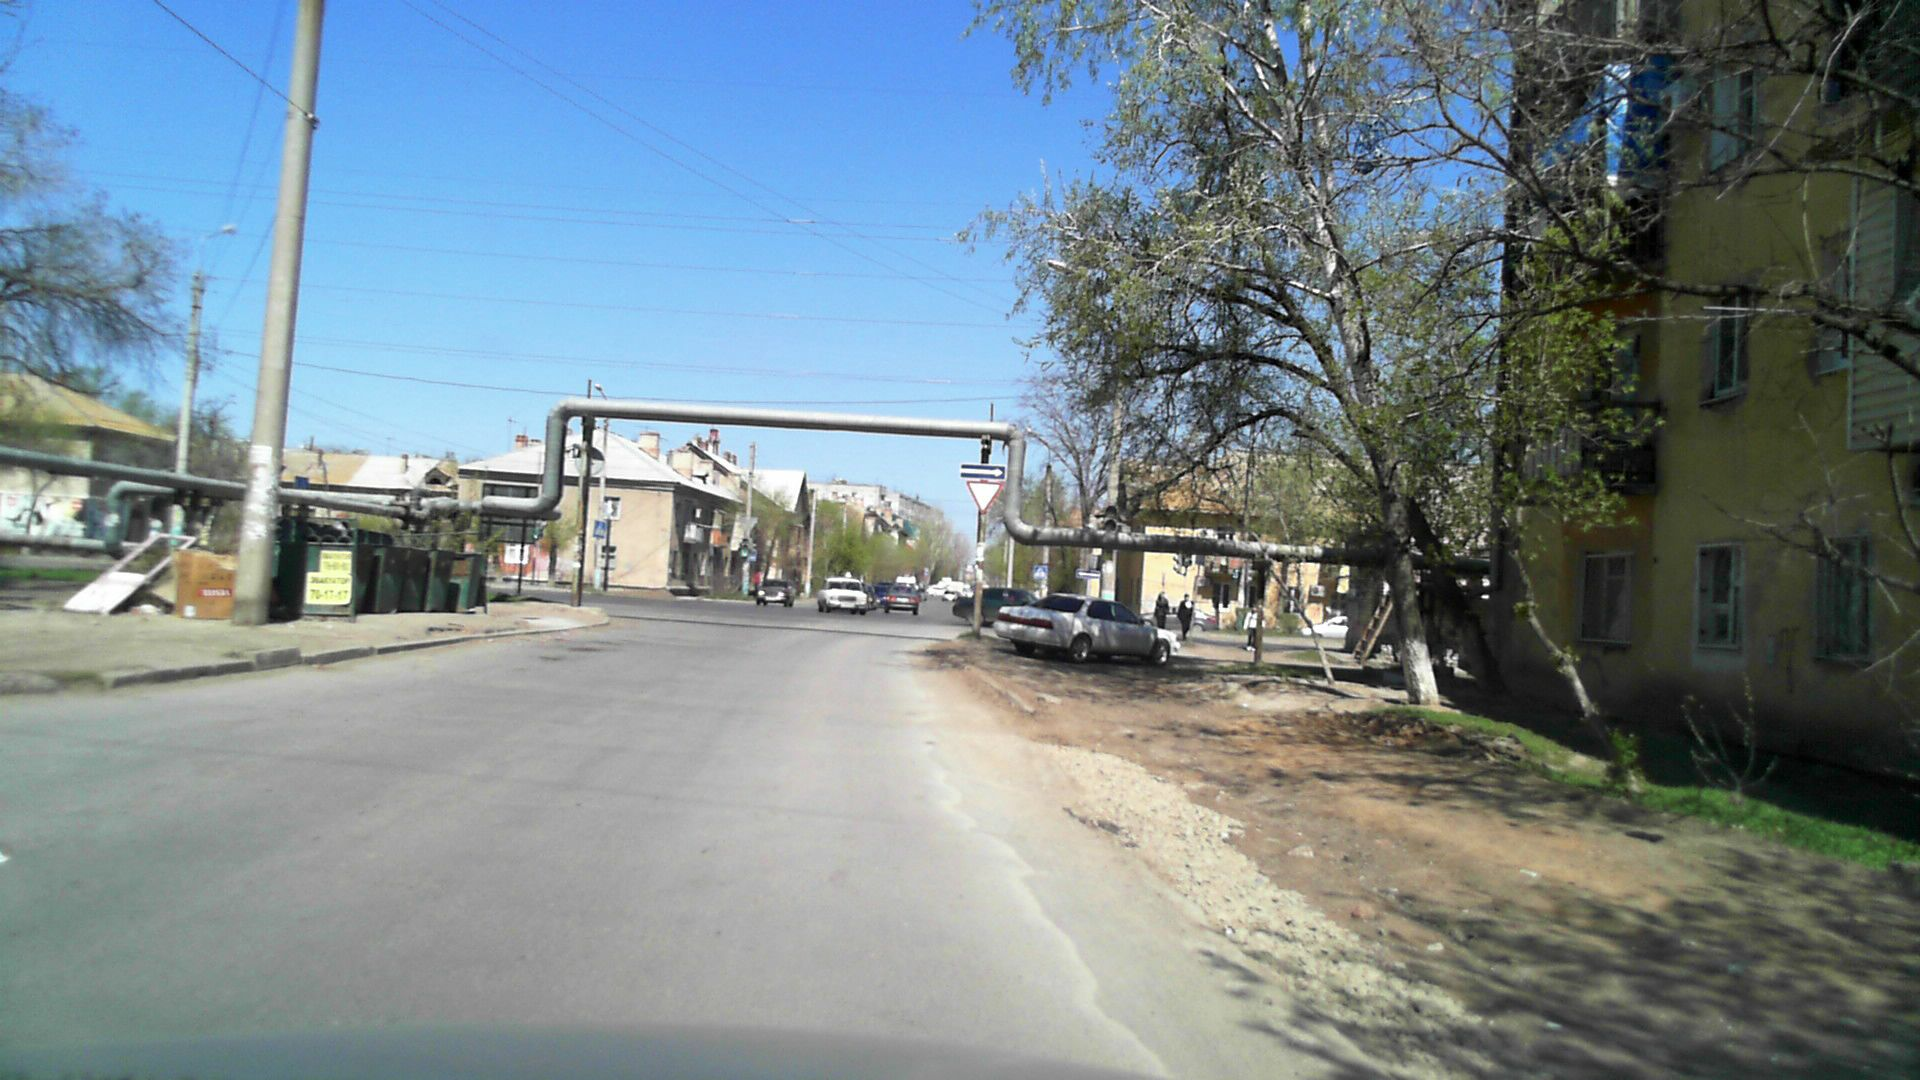One-Way Traffic: (960, 463, 1006, 480)
